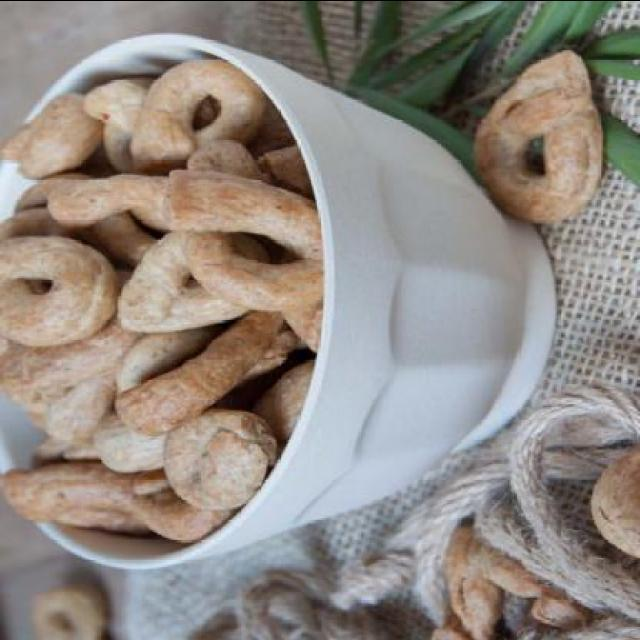Taralli: (9, 52, 336, 542), (476, 44, 600, 230)
